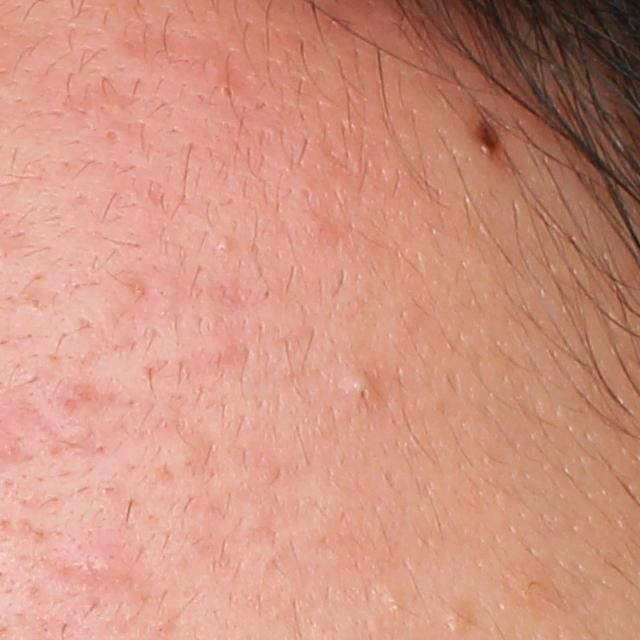comedo: (346, 370, 376, 404), (445, 607, 472, 635), (103, 126, 122, 145), (216, 240, 230, 255)
nevus: (470, 107, 513, 165)
